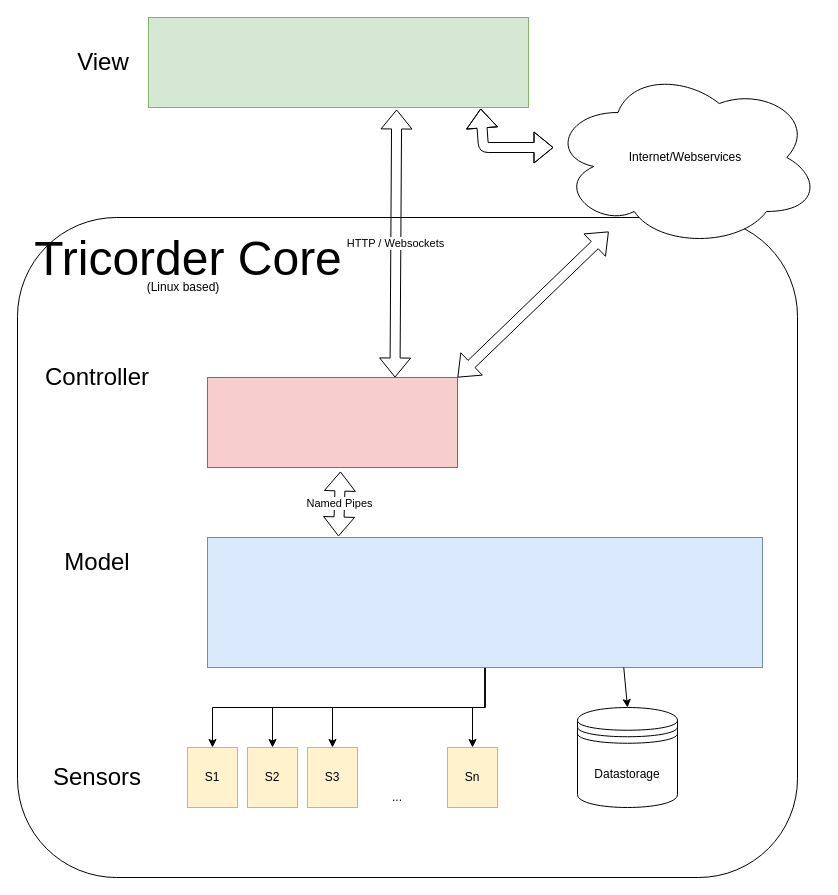
Image size: 838x895. Some labels were removed from this diagram. The centre of each missing label's shape, as x and y in pixels:
LCARS UI (HTML, CSS, JS, Ajax): the point at 338,62
NodeJS: the point at 332,422
PicorderOS (Python, Linux Base Features): the point at 484,602
